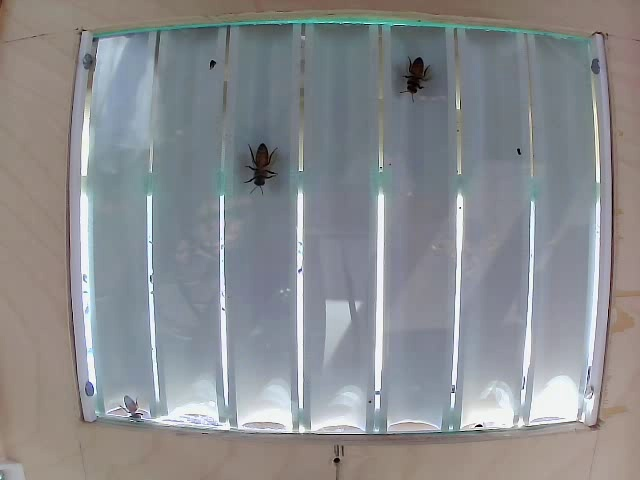bee: (231, 137, 279, 193), (392, 59, 431, 97)
